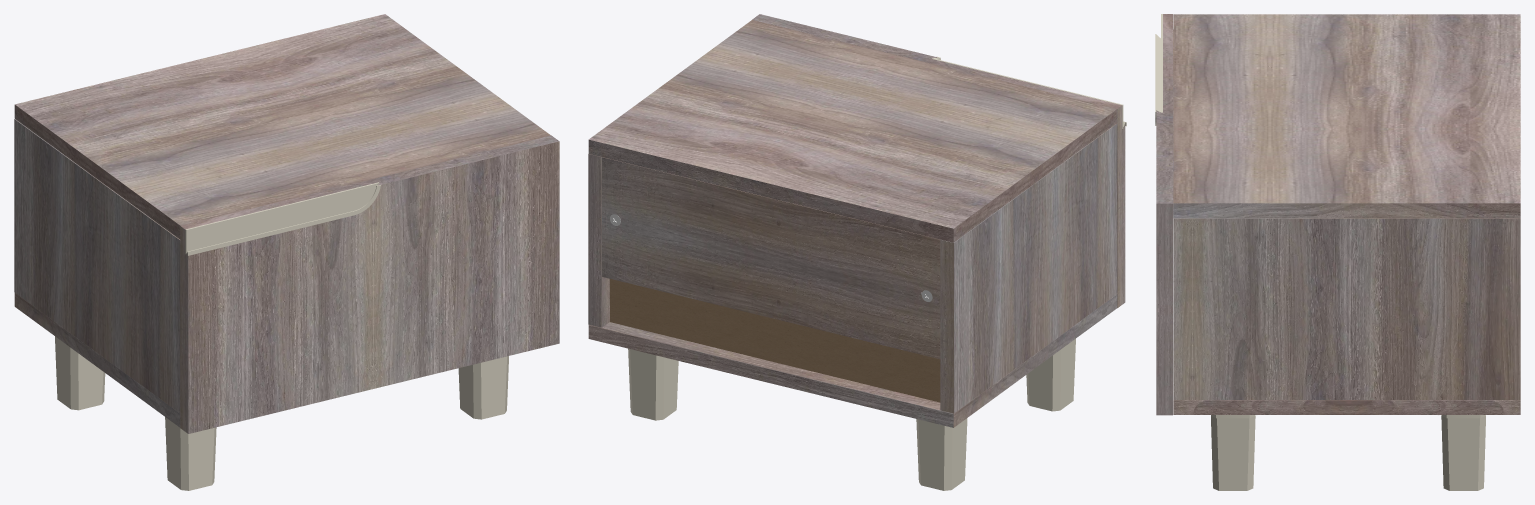
3 views of the same model, side by side, from view 1: azimuth 30°, elevation 25°; view 2: azimuth 150°, elevation 25°; view 3: azimuth 270°, elevation 25° (orthographic). The views are drawn at different scales.
Parts seen in each view (by area): view 1: group_0.094, group_0.088, group_0.143; view 2: group_0.094, group_0.030, group_0.088; view 3: group_0.094, group_0.088, group_0.143.
Part boxes in pixels (left/top/right/bottom): group_0.094: left=14, top=14, right=559, bottom=433; group_0.088: left=55, top=336, right=508, bottom=490; group_0.143: left=185, top=182, right=380, bottom=255; group_0.094: left=588, top=14, right=1125, bottom=427; group_0.030: left=610, top=279, right=940, bottom=402; group_0.088: left=628, top=338, right=1075, bottom=490; group_0.094: left=1156, top=14, right=1520, bottom=415; group_0.088: left=1211, top=415, right=1485, bottom=490; group_0.143: left=1155, top=14, right=1162, bottom=125.
Size of the model in its own units: 0.4811 by 0.3532 by 0.391.
4 materials, 2 textured.
